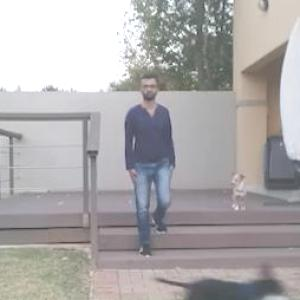follow: (123, 73, 175, 288)
